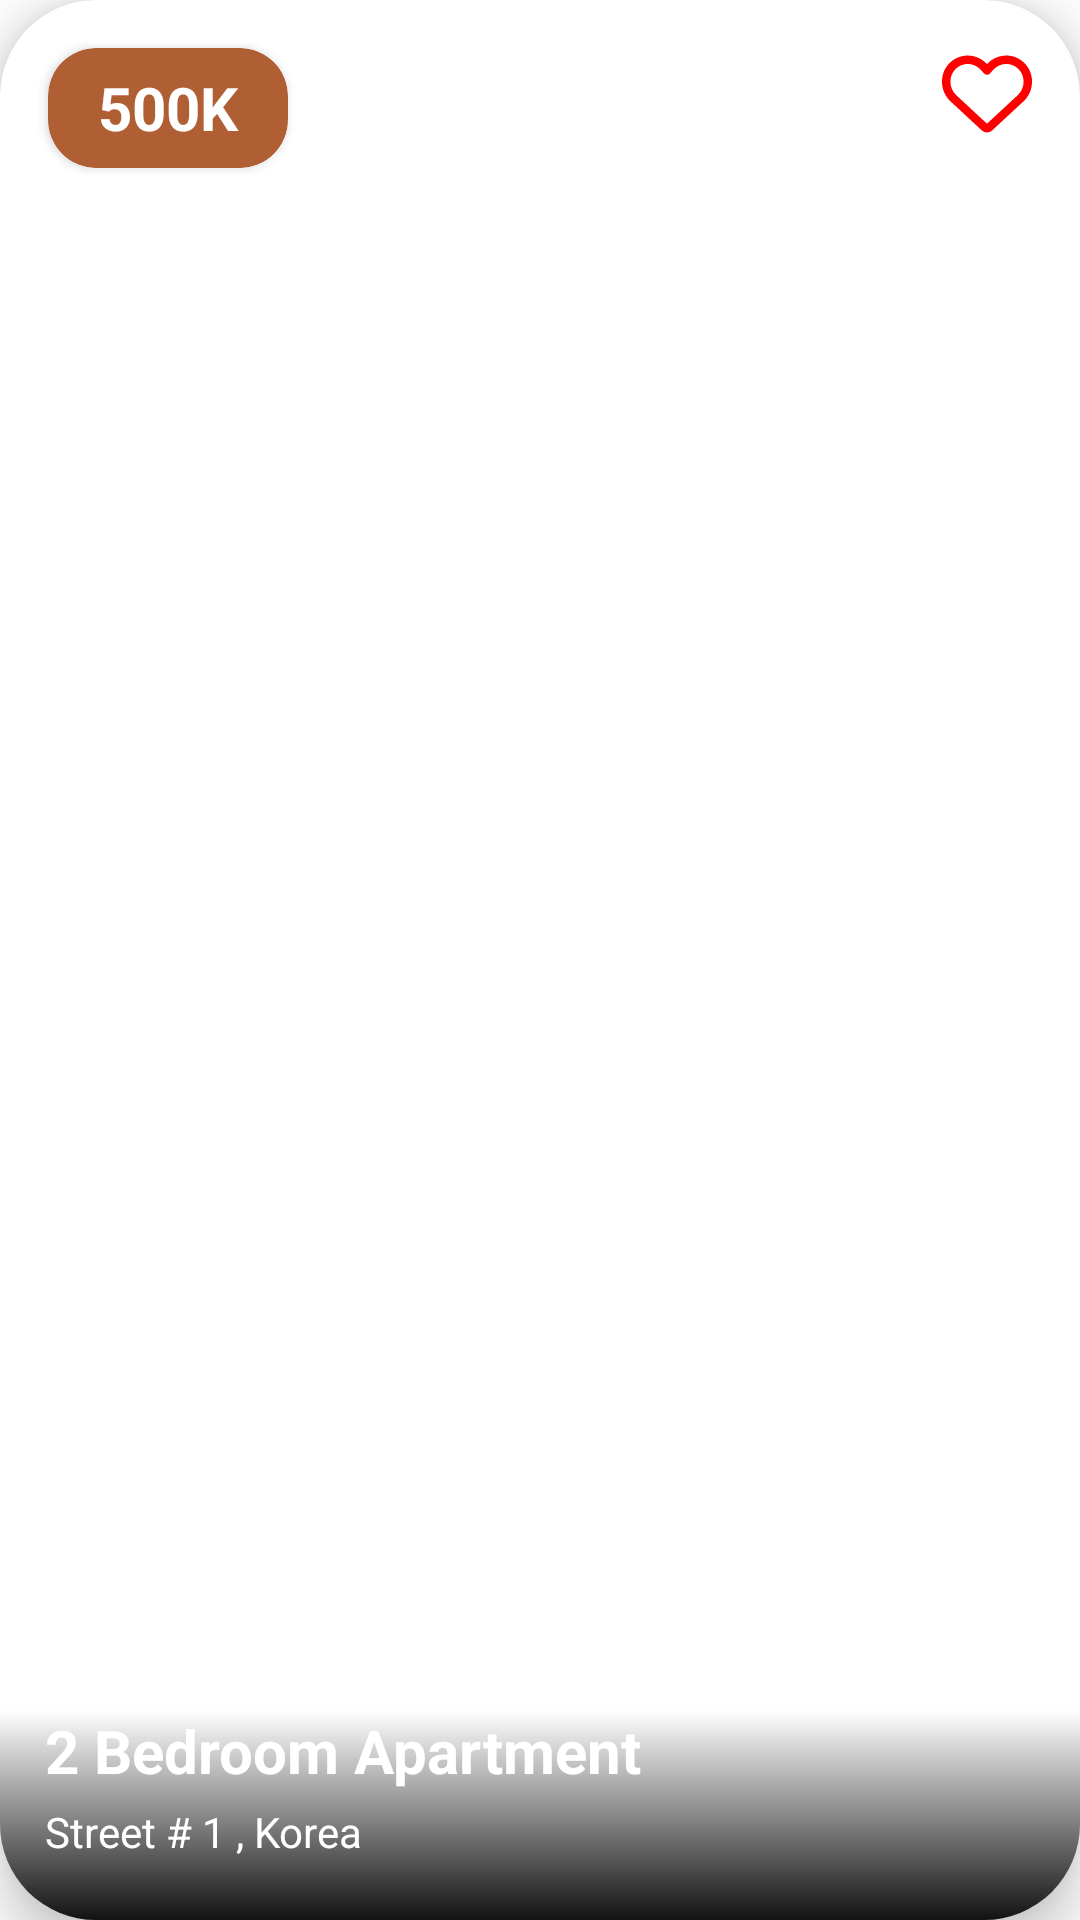

Screen size 1080×1920. Icon name, then its box in pixels as (x1, y1, x2, y2):
heart: (942, 55, 1032, 133)
